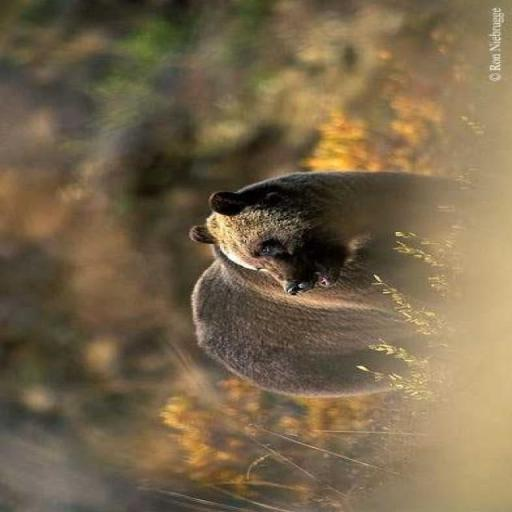Bear: (186, 168, 485, 400)
